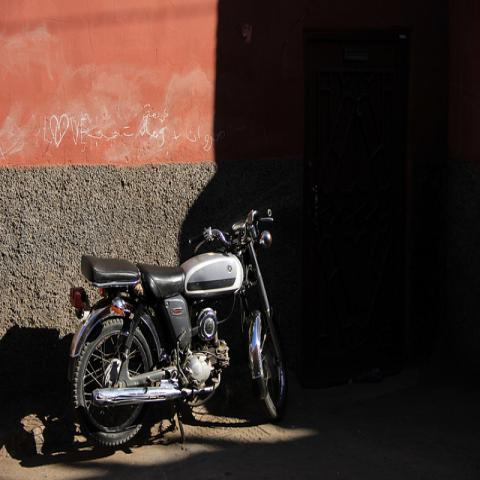motorcycle: (69, 208, 288, 446)
